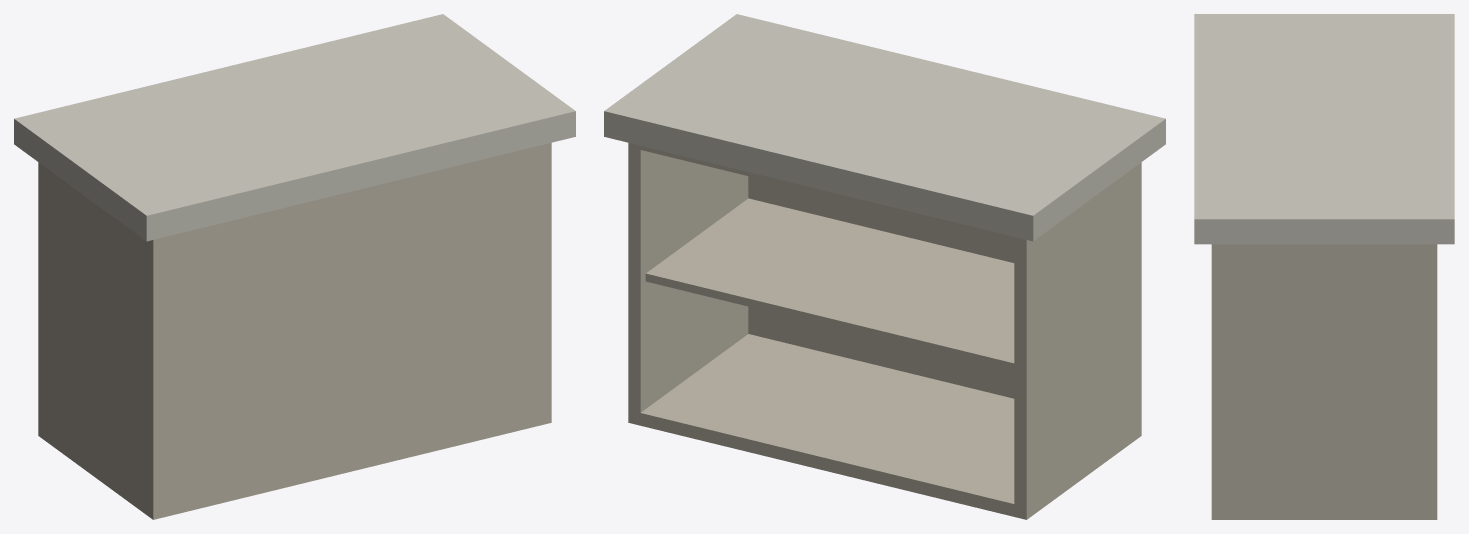
File: kitchen_island.glb
The picture shows the model from 3 angles, left to right: view 1: azimuth 30°, elevation 25°; view 2: azimuth 150°, elevation 25°; view 3: azimuth 270°, elevation 25°; orthographic projection. The views are drawn at different scales.
Visible parts, largest first — view 1: body; view 2: body; view 3: body.
Boxes of the visible parts, x1,y1,x2,y2 form: body: (14, 14, 575, 519); body: (604, 14, 1165, 519); body: (1194, 14, 1454, 519).
Size of the model in its own units: 1.4 by 0.98 by 0.75.
